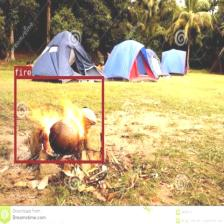fire: (14, 76, 103, 162)
